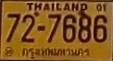2: (21, 14, 34, 42)
6: (62, 14, 75, 42), (93, 14, 106, 42)
7: (6, 14, 20, 42), (48, 13, 61, 42)
8: (78, 13, 90, 42)
BKK: (21, 47, 91, 58)
